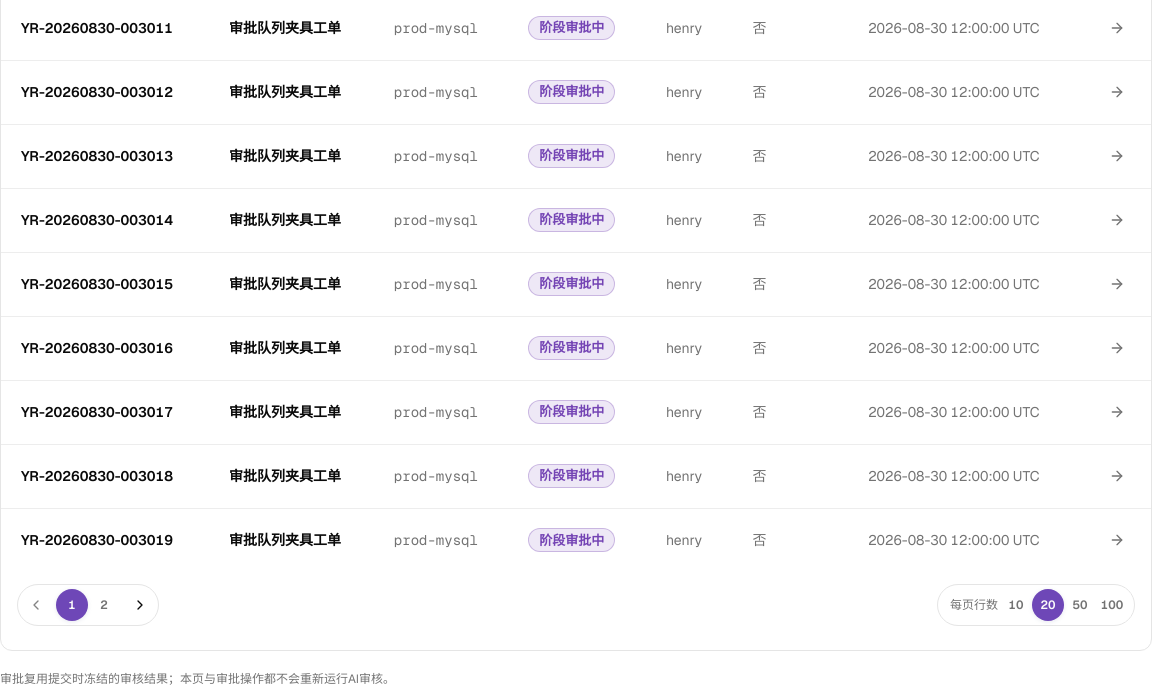
Test: ApprovalQueuePage › pages the queue client-side with the pill footer (owner ruling 2026-10-24)
(page scrolled)
Click the button with test id "approval-queue-footer-next": (140, 605) x1=126 y1=591 x2=154 y2=619
(page scrolled)
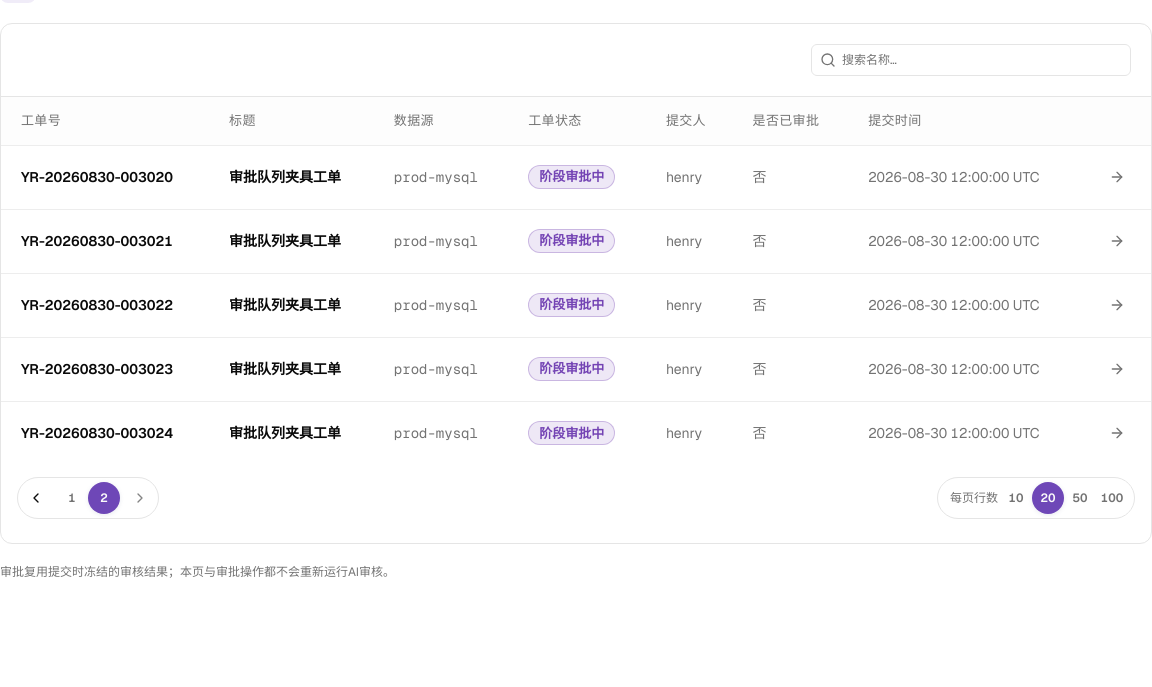
Expected: the button with test id "approval-queue-footer-next" is disabled, x1=126 y1=484 x2=154 y2=512
Now the number of rows with test id "approval-queue-row" is 5, box x1=1 y1=145 x2=1151 y2=209; x1=1 y1=209 x2=1151 y2=273; x1=1 y1=273 x2=1151 y2=337; x1=1 y1=337 x2=1151 y2=401; x1=1 y1=401 x2=1151 y2=465
